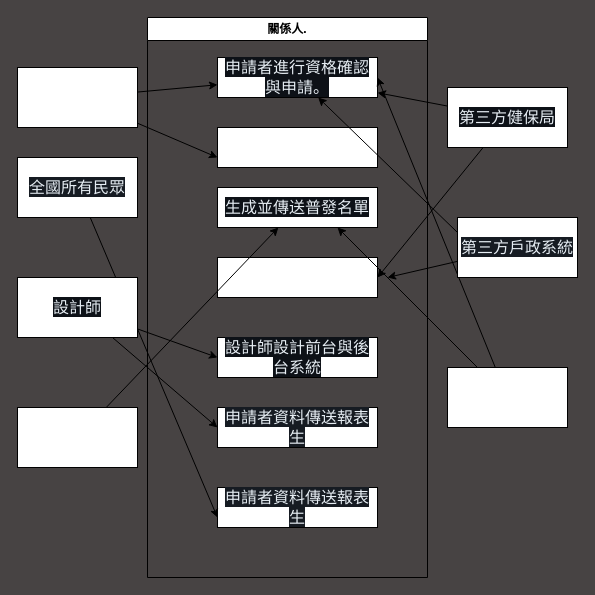
Some shapes in this 595 by 595 pixel diagram are drawn without their labels. Each missing label, with the centre of its shape:
"其他金融負責單位" goes at (x=507, y=397).
"政府機關人員" goes at (x=77, y=97).
"政府機關人員核對申請資訊" goes at (x=297, y=147).
"申請者資料修改與確認" goes at (x=297, y=277).
"第三方金融機構" goes at (x=77, y=437).
